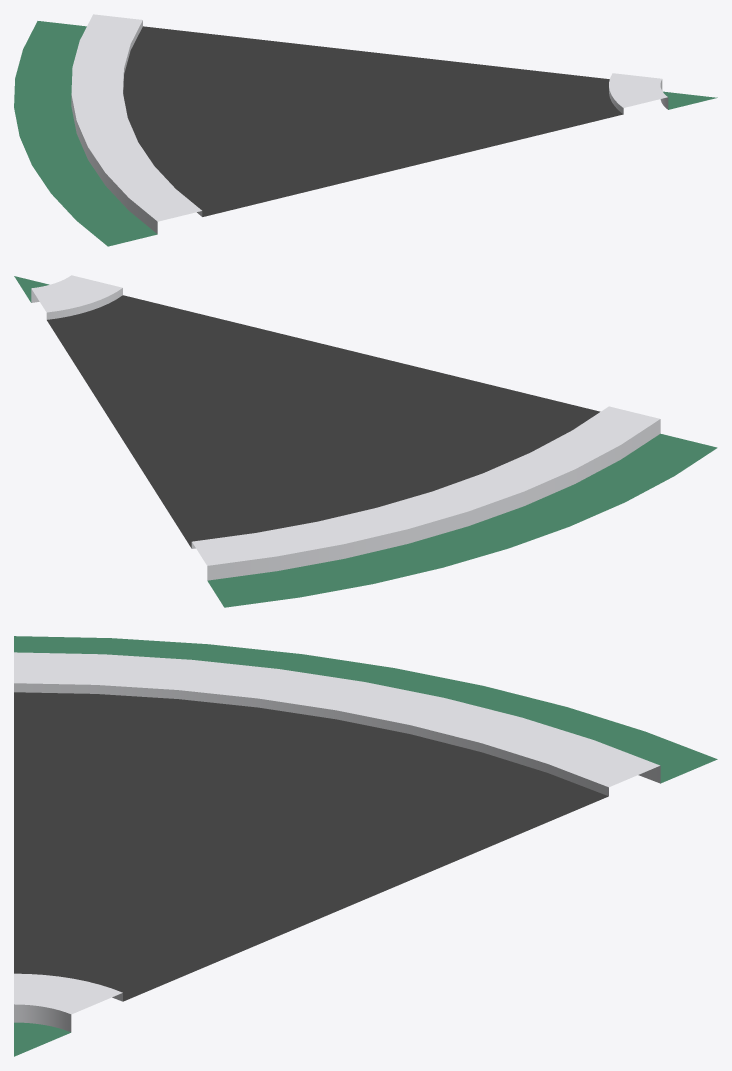
File: roadCornerSmall45 (1).fbx
The picture shows the model from 3 angles, top to bottom: view 1: azimuth 30°, elevation 25°; view 2: azimuth 150°, elevation 25°; view 3: azimuth 270°, elevation 25°; orthographic projection. The views are drawn at different scales.
Parts seen in each view (by area): view 1: roadCornerSmall45; view 2: roadCornerSmall45; view 3: roadCornerSmall45.
Boxes of the visible parts, x1,y1,x2,y2 form: roadCornerSmall45: (14,14,717,246); roadCornerSmall45: (14,275,717,607); roadCornerSmall45: (14,636,717,1056).
Bounding box in the file's own units: 1000 × 707 × 20.
